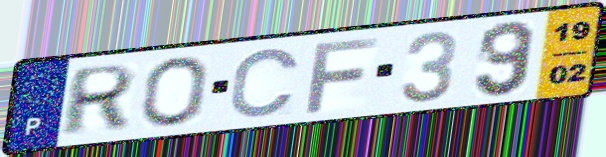3: (399, 29, 460, 104)
9: (474, 18, 538, 100)
C: (226, 45, 303, 120)
F: (302, 35, 382, 115)
O: (140, 55, 210, 129)
R: (56, 61, 141, 139)
